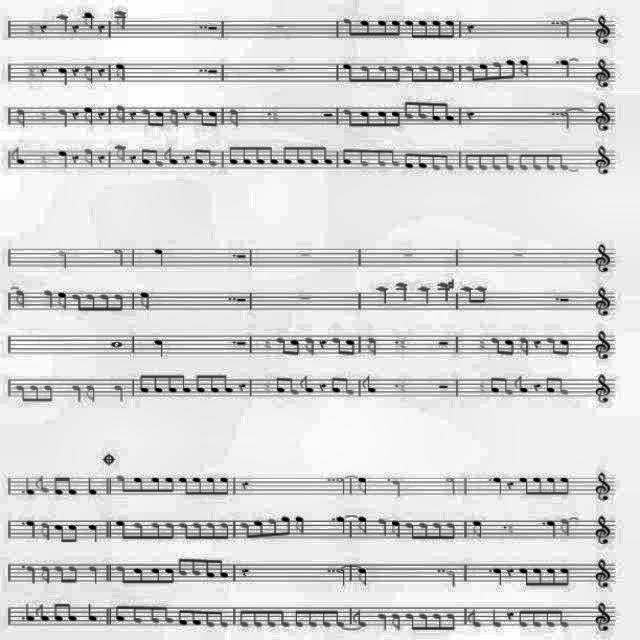Eighth-note: (300, 328, 316, 372), (490, 148, 510, 182), (307, 597, 323, 639), (132, 595, 150, 629), (115, 461, 129, 503), (35, 466, 53, 498), (560, 149, 576, 183), (544, 466, 560, 500), (340, 15, 360, 42), (142, 288, 160, 318), (523, 549, 535, 593), (204, 518, 224, 544), (179, 509, 193, 546), (372, 142, 388, 174), (117, 550, 131, 586), (66, 562, 84, 590), (504, 143, 516, 184), (114, 8, 134, 32), (268, 136, 280, 176), (115, 139, 131, 169), (254, 600, 266, 640), (431, 148, 443, 188), (516, 369, 532, 399), (204, 466, 216, 506), (42, 554, 56, 588), (558, 372, 574, 401), (478, 141, 490, 179), (393, 595, 403, 640), (531, 552, 545, 584), (203, 602, 217, 634), (44, 378, 60, 406), (180, 464, 194, 496), (322, 138, 333, 178), (356, 466, 368, 502), (226, 142, 238, 178), (241, 600, 253, 636), (344, 142, 356, 178), (15, 286, 33, 310), (406, 506, 416, 548), (534, 147, 544, 189), (462, 141, 472, 183), (190, 554, 204, 584), (164, 598, 174, 640), (152, 556, 166, 586), (112, 513, 126, 543), (358, 563, 374, 589), (226, 106, 242, 132), (418, 511, 430, 545), (268, 508, 280, 542), (320, 600, 332, 634), (266, 603, 278, 637), (220, 604, 232, 638), (191, 600, 203, 634), (68, 518, 80, 552), (390, 142, 402, 176), (192, 465, 204, 499), (391, 506, 401, 546), (133, 470, 147, 498), (522, 462, 534, 494), (254, 136, 266, 168), (294, 512, 310, 536), (310, 144, 322, 176), (174, 554, 186, 586), (66, 466, 78, 498), (35, 600, 51, 624), (418, 14, 430, 46), (14, 142, 26, 174), (433, 511, 445, 542), (56, 285, 70, 311), (409, 602, 419, 638), (82, 142, 94, 172), (207, 550, 217, 586), (134, 554, 144, 590), (56, 468, 66, 504), (505, 53, 517, 83), (433, 56, 443, 92), (445, 146, 455, 182), (276, 330, 288, 360), (291, 332, 299, 376), (419, 606, 429, 640), (152, 600, 162, 634), (191, 513, 201, 547), (153, 465, 163, 499), (38, 518, 51, 544), (562, 512, 574, 540), (357, 606, 369, 634), (81, 8, 95, 32), (165, 145, 179, 169), (364, 374, 376, 402), (520, 148, 528, 188), (283, 508, 293, 540), (255, 510, 265, 542), (116, 601, 132, 621), (379, 100, 389, 132), (82, 58, 94, 84), (544, 332, 556, 358), (292, 607, 304, 633), (196, 373, 208, 399), (545, 602, 553, 638), (473, 508, 481, 544), (548, 152, 560, 176), (298, 142, 306, 178), (114, 102, 126, 126), (240, 508, 248, 544), (152, 516, 164, 540), (362, 16, 374, 40), (416, 105, 432, 123), (404, 152, 416, 176), (404, 100, 416, 124), (100, 290, 112, 314), (562, 474, 574, 498), (417, 149, 428, 175), (447, 604, 457, 632), (471, 602, 481, 630), (283, 144, 293, 172), (330, 372, 340, 400), (219, 552, 229, 580), (380, 12, 390, 40), (446, 100, 456, 128), (346, 103, 356, 131), (436, 602, 444, 636), (222, 511, 230, 545), (333, 326, 342, 356), (84, 104, 95, 128), (343, 375, 355, 397), (68, 601, 80, 623), (519, 58, 531, 80), (562, 564, 572, 590), (531, 466, 541, 492), (533, 606, 543, 632), (408, 58, 418, 84), (183, 371, 193, 397), (167, 514, 177, 540), (358, 508, 366, 540), (336, 606, 344, 638), (153, 142, 161, 174), (142, 140, 150, 172), (177, 606, 185, 638), (165, 558, 173, 590), (56, 596, 64, 628), (480, 52, 488, 84), (446, 64, 458, 85), (362, 145, 371, 173), (118, 58, 128, 82), (280, 604, 290, 628), (55, 516, 63, 546), (491, 60, 501, 84), (419, 58, 429, 82), (431, 104, 441, 128), (15, 108, 27, 128), (479, 279, 489, 303), (288, 378, 300, 398), (276, 374, 286, 398), (30, 378, 40, 402), (15, 378, 25, 402), (168, 372, 176, 401), (220, 469, 228, 498), (518, 608, 526, 636), (242, 140, 250, 168), (206, 146, 214, 174), (56, 558, 64, 586), (447, 20, 455, 48), (434, 11, 441, 43), (211, 370, 219, 398), (140, 371, 148, 399), (444, 520, 454, 542), (143, 106, 153, 128), (405, 15, 415, 37), (341, 60, 352, 80), (463, 280, 472, 304), (196, 108, 208, 126), (544, 377, 556, 395), (468, 57, 476, 83), (362, 105, 370, 131), (504, 371, 512, 397), (348, 336, 358, 356), (134, 520, 144, 540), (391, 62, 401, 82), (165, 471, 175, 491), (560, 606, 566, 638), (195, 146, 201, 178), (560, 336, 568, 360), (89, 384, 97, 408), (302, 378, 312, 397), (369, 336, 377, 359), (493, 336, 502, 356), (380, 61, 388, 83), (74, 291, 82, 313), (520, 336, 528, 358), (506, 334, 514, 356), (492, 373, 500, 395), (393, 18, 402, 36), (394, 103, 400, 129), (225, 373, 231, 399), (548, 560, 554, 584), (116, 293, 124, 311), (88, 290, 94, 314), (154, 374, 160, 396), (362, 64, 368, 85), (158, 111, 164, 131), (172, 106, 176, 134), (212, 108, 216, 128)
Eighth-rest: (464, 107, 476, 125), (96, 105, 108, 123), (240, 563, 252, 581), (466, 22, 479, 38), (97, 151, 107, 171), (317, 334, 328, 352), (70, 64, 82, 80), (181, 108, 193, 124), (506, 564, 518, 580), (96, 21, 106, 37), (238, 378, 248, 394), (532, 337, 542, 353), (319, 380, 327, 400), (241, 476, 251, 492), (507, 607, 518, 621), (532, 380, 540, 398), (130, 150, 138, 167), (130, 107, 138, 123), (71, 22, 81, 34), (39, 66, 49, 78), (506, 478, 516, 490), (70, 152, 78, 166), (98, 66, 106, 78), (72, 108, 80, 120), (184, 154, 192, 166), (40, 22, 46, 34)
Full-rest: (266, 286, 330, 310), (274, 230, 318, 260), (491, 237, 534, 263), (249, 55, 295, 79), (388, 237, 420, 263), (266, 8, 288, 44)
Half-note: (56, 238, 76, 272), (444, 471, 461, 501), (115, 242, 126, 274), (561, 14, 571, 41), (447, 564, 458, 588), (338, 471, 347, 497), (562, 109, 572, 129), (338, 568, 346, 584)
Half-rest: (436, 372, 449, 398), (238, 244, 250, 272), (432, 334, 448, 354), (558, 290, 572, 310), (235, 291, 249, 307), (208, 64, 218, 84), (208, 20, 220, 34), (236, 335, 248, 349)
Quarter-note: (420, 268, 434, 312), (70, 369, 84, 406), (84, 518, 100, 550), (488, 598, 502, 630), (84, 597, 98, 627), (115, 369, 125, 411), (156, 240, 168, 274), (376, 604, 388, 638), (379, 277, 389, 315), (392, 471, 404, 501), (492, 557, 503, 589), (398, 274, 409, 306), (546, 512, 558, 540), (336, 514, 348, 542), (88, 474, 100, 502), (561, 54, 571, 86), (440, 272, 448, 312), (150, 335, 163, 359), (493, 470, 503, 500), (23, 474, 33, 504), (378, 511, 387, 543), (26, 599, 34, 633), (27, 516, 37, 542)
Treble-clef: (585, 6, 623, 54), (591, 94, 625, 136), (588, 466, 620, 508), (592, 236, 620, 280), (590, 138, 614, 186), (588, 329, 616, 367), (590, 374, 618, 412), (591, 288, 617, 324), (594, 55, 614, 93)
